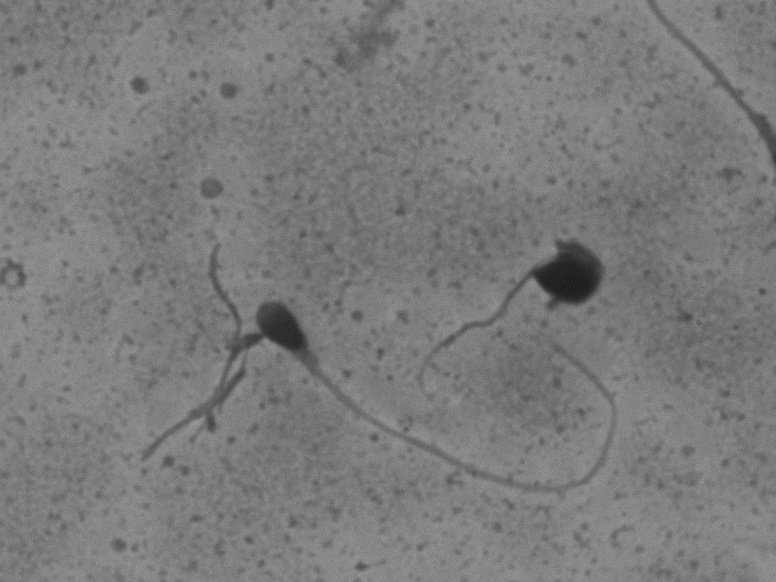Abnormal: (245, 277, 645, 528), (434, 196, 640, 352)
